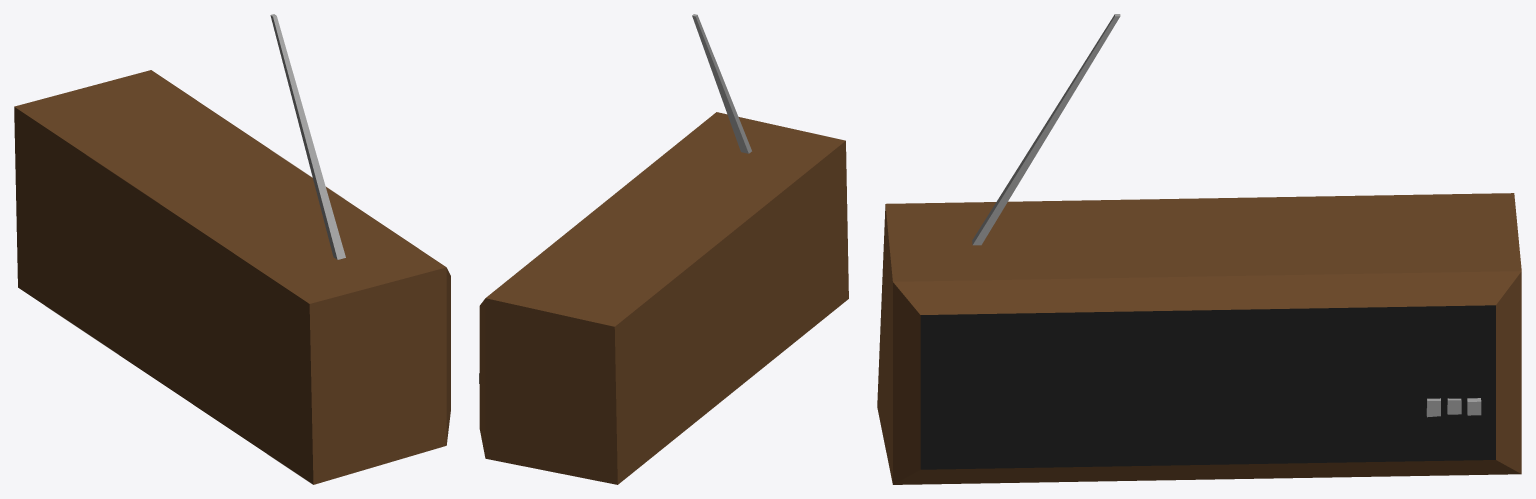
Rendered from Radio voor game.fbx.
The picture shows the model from 3 angles, left to right: view 1: azimuth 30°, elevation 25°; view 2: azimuth 150°, elevation 25°; view 3: azimuth 270°, elevation 25°; orthographic projection. The views are drawn at different scales.
Parts seen in each view (by area): view 1: Cube; view 2: Cube; view 3: Cube.
Part boxes in pixels (x1=…): Cube: x1=14, y1=14, x2=450, y2=484; Cube: x1=479, y1=14, x2=848, y2=484; Cube: x1=877, y1=14, x2=1521, y2=484.
Size of the model in its own units: 206 by 422 by 575.
